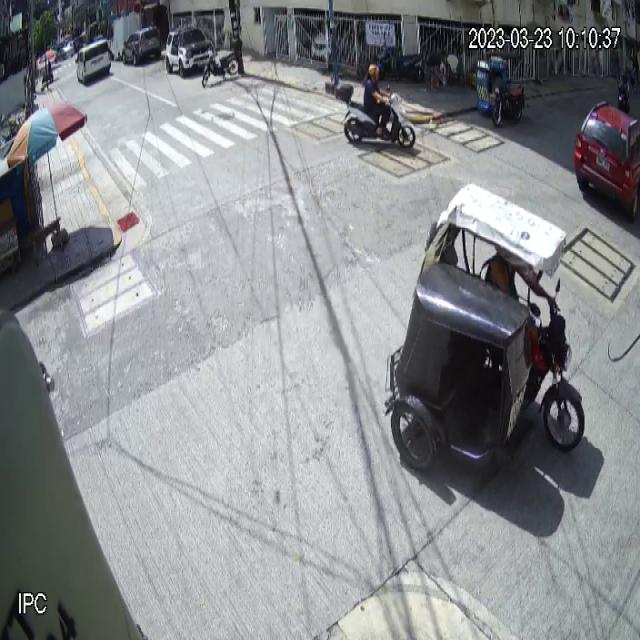Car: (573, 98, 640, 220)
Motorcycle: (334, 82, 418, 150)
Tricycle: (383, 182, 587, 470), (476, 52, 525, 127)
